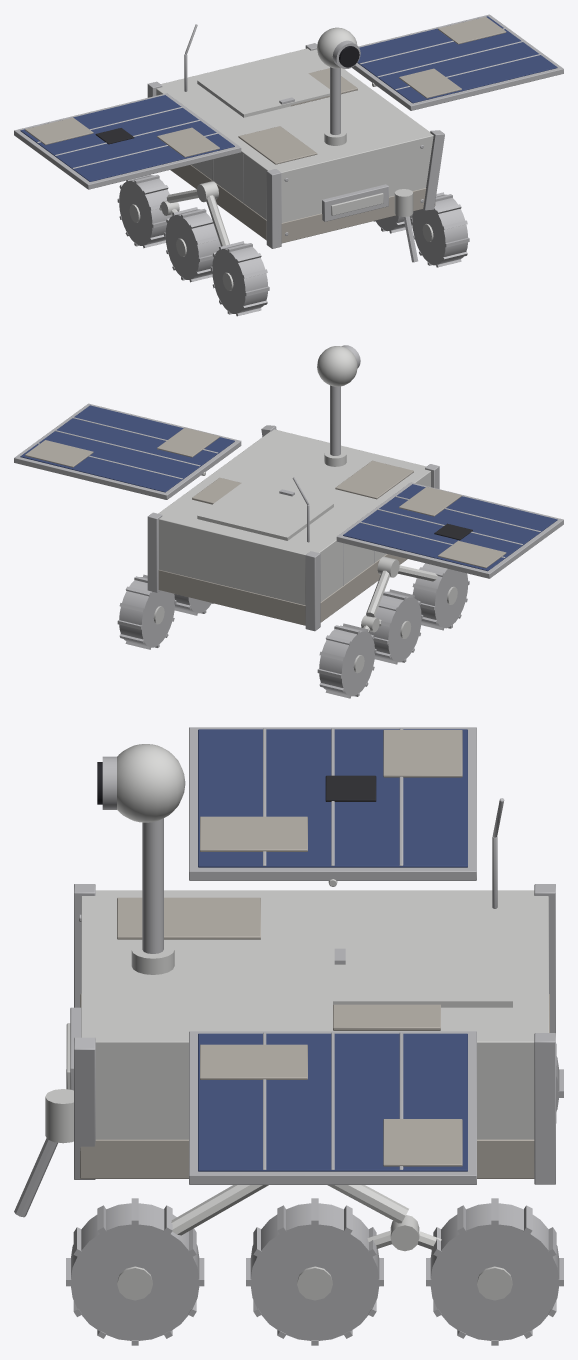
File: mica.glb
The picture shows the model from 3 angles, top to bottom: view 1: azimuth 30°, elevation 25°; view 2: azimuth 150°, elevation 25°; view 3: azimuth 270°, elevation 25°; orthographic projection. The views are drawn at different scales.
Parts seen in each view (by area): view 1: chassis, wing_R, wing_L, hatch, wheel_4, wheel_5, wheel_1, wheel_6, eye, rocker_R, mast, drill (+1 smaller); view 2: chassis, wing_L, wing_R, hatch, wheel_6, wheel_3, wheel_5, wheel_4, eye, rocker_R, mast, wheel_2; view 3: chassis, wing_R, wing_L, hatch, wheel_3, wheel_2, wheel_1, eye, mast, rocker_L, drill, bogie_L.
Part boxes in pixels (bbox=[...]): chassis: bbox=[147, 24, 444, 248]; wing_R: bbox=[14, 93, 241, 189]; wing_L: bbox=[352, 14, 563, 110]; hatch: bbox=[197, 58, 329, 117]; wheel_4: bbox=[210, 241, 269, 316]; wheel_5: bbox=[164, 207, 220, 282]; wheel_1: bbox=[410, 192, 469, 267]; wheel_6: bbox=[117, 174, 171, 248]; eye: bbox=[317, 27, 360, 69]; rocker_R: bbox=[166, 181, 229, 246]; mast: bbox=[324, 67, 346, 145]; drill: bbox=[394, 189, 418, 262]; chassis: bbox=[147, 425, 439, 631]; wing_L: bbox=[14, 403, 241, 499]; wing_R: bbox=[336, 482, 563, 578]; hatch: bbox=[197, 481, 333, 540]; wheel_6: bbox=[317, 623, 376, 698]; wheel_3: bbox=[117, 574, 176, 649]; wheel_5: bbox=[369, 589, 423, 664]; wheel_4: bbox=[412, 563, 469, 630]; eye: bbox=[317, 345, 360, 386]; rocker_R: bbox=[366, 556, 437, 617]; mast: bbox=[324, 385, 346, 466]; wheel_2: bbox=[174, 594, 213, 615]; chassis: bbox=[66, 798, 555, 1184]; wing_R: bbox=[189, 727, 476, 886]; wing_L: bbox=[189, 1031, 476, 1184]; hatch: bbox=[333, 916, 512, 1007]; wheel_3: bbox=[426, 1198, 563, 1345]; wheel_2: bbox=[246, 1198, 383, 1345]; wheel_1: bbox=[66, 1198, 204, 1345]; eye: bbox=[97, 744, 185, 822]; mast: bbox=[131, 818, 174, 974]; rocker_L: bbox=[171, 1185, 408, 1235]; drill: bbox=[14, 1089, 73, 1217]; bogie_L: bbox=[367, 1215, 441, 1251].
Bounding box in the file's own units: 2.95 × 1.51 × 1.53.
